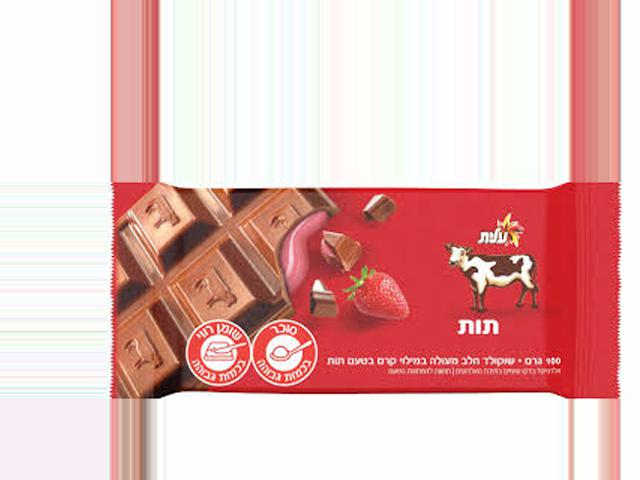chocolate: (115, 184, 622, 400)
